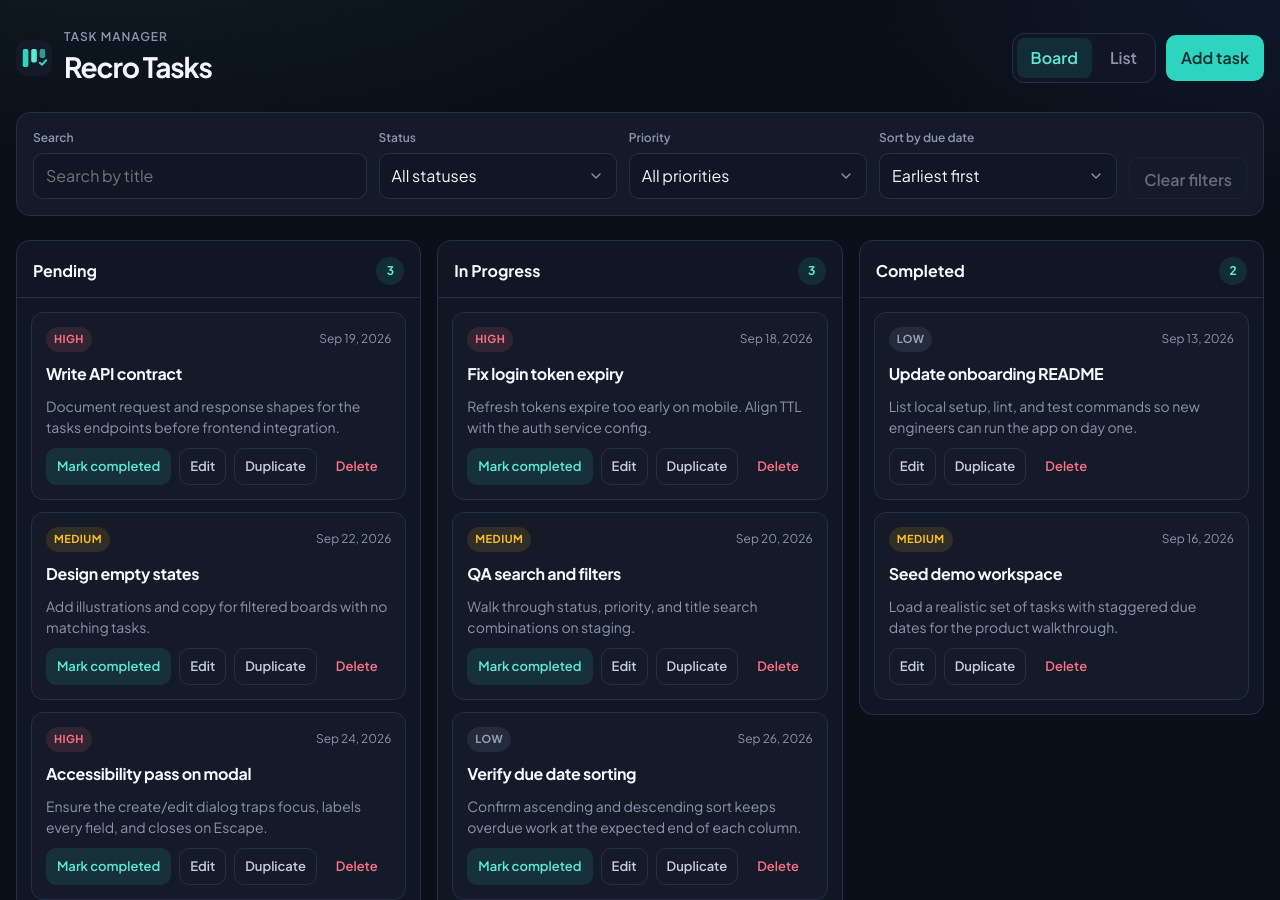
Test: App › filters the board by priority
This screenshot has width=1280, height=900.
Click the dropdown named "Priority" at {"x": 748, "y": 176}, box 629,153 -> 867,199
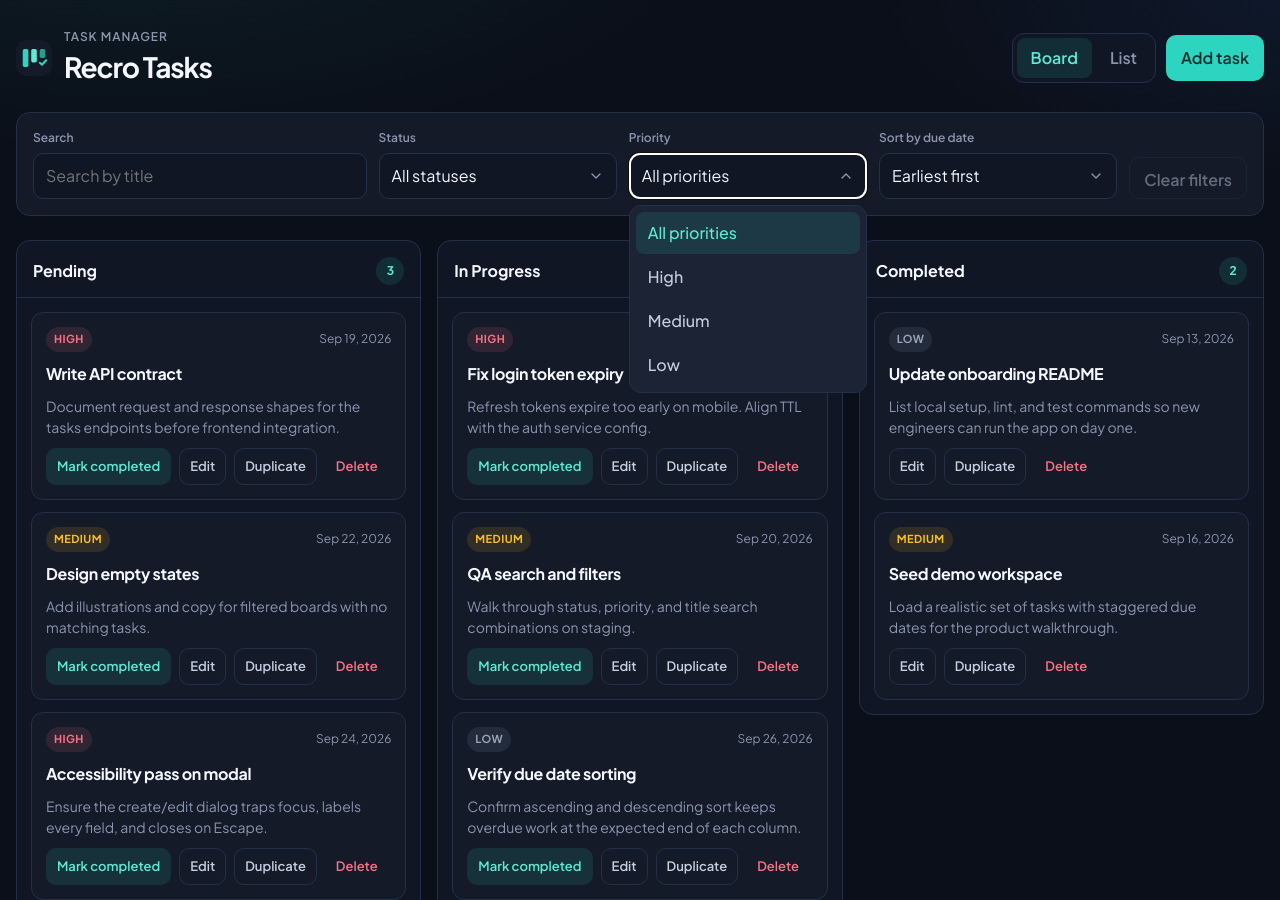
Click the option "Low" at {"x": 748, "y": 365}, box 636,344 -> 860,386
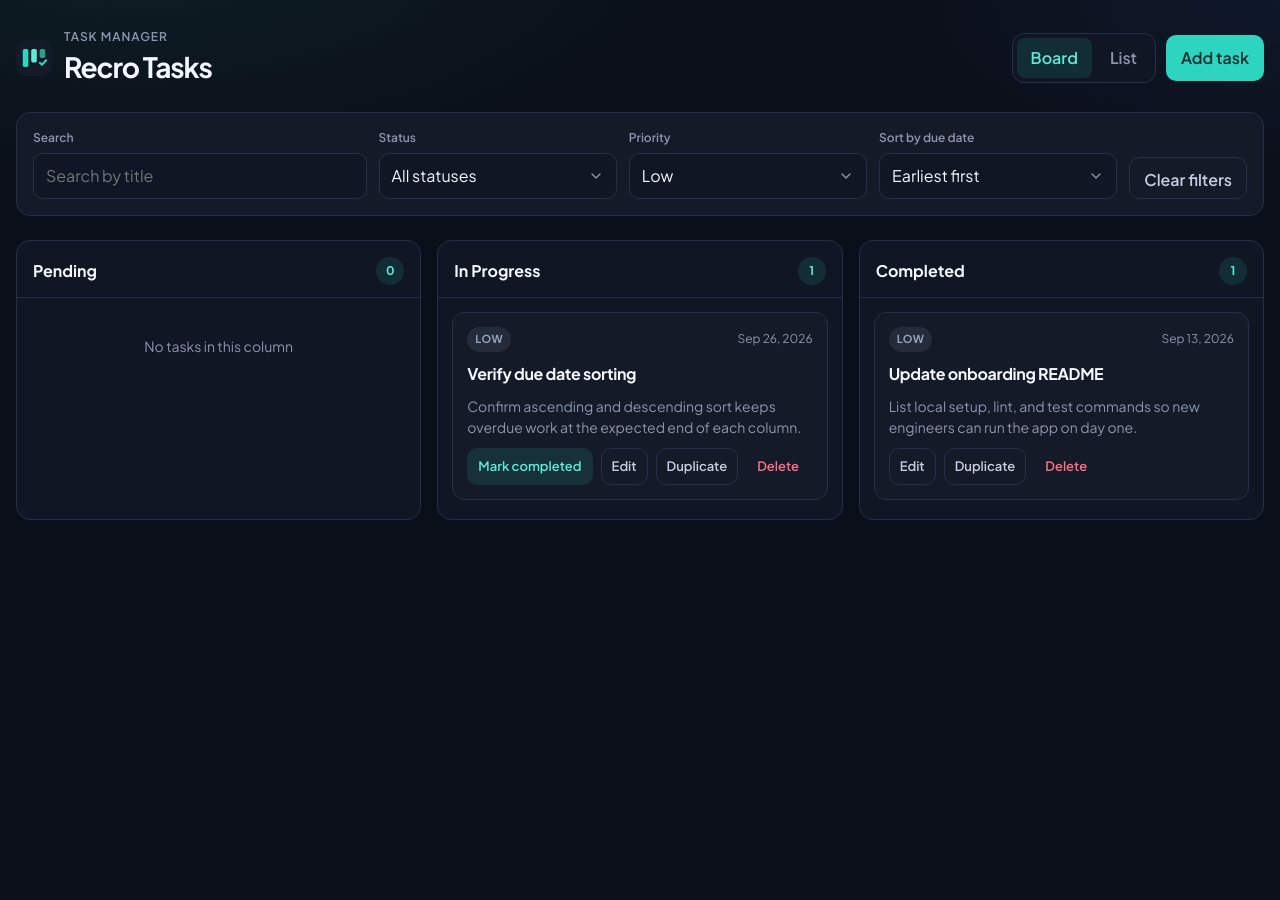
Expected: the heading "Update onboarding README" is shown, 889,362 -> 1103,384
Now the heading "Write API contract" is gone
Now the heading "Fix login token expiry" is gone
